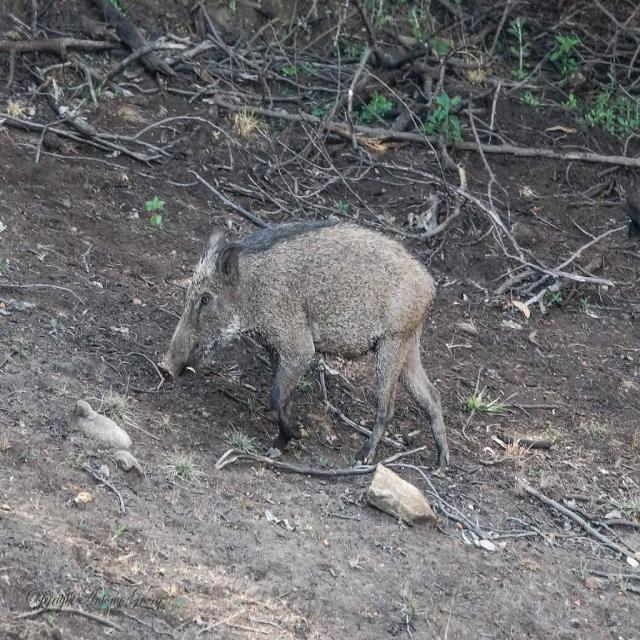Pig: (157, 216, 450, 474)
